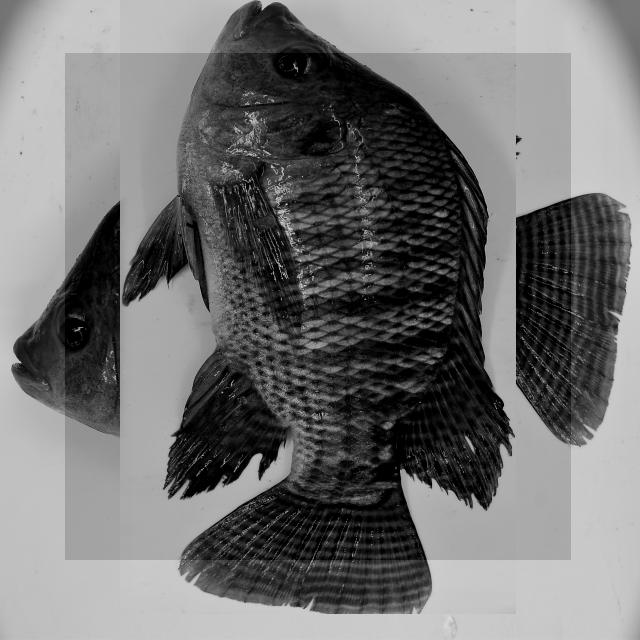Healthy Fish: (65, 53, 571, 560)
